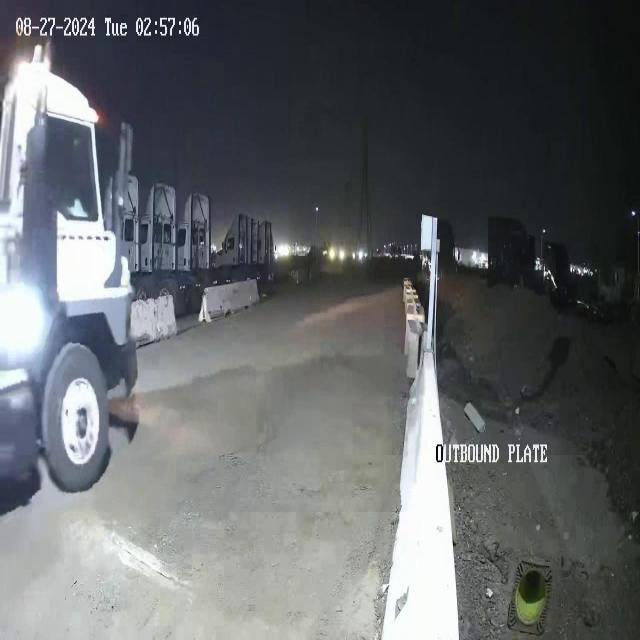TRUCK_IN: (0, 42, 140, 496)
